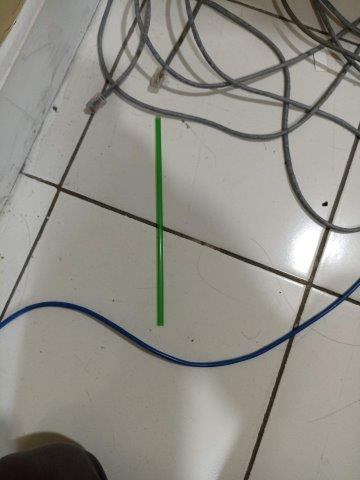sedotan: (155, 117, 163, 325)
